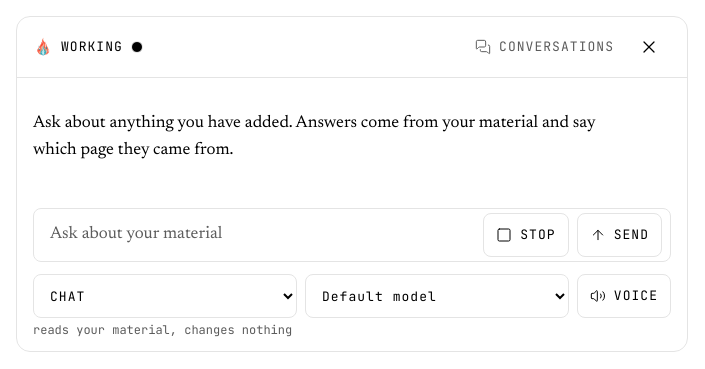
Scenario: the agent bar › closes even while a run is in flight, and the next send brings it back
Expected: the element with test id "agent-state" is shown, [33,37,143,57]
Click the button named "close the agent" at [649, 47], box [627,25,671,69]
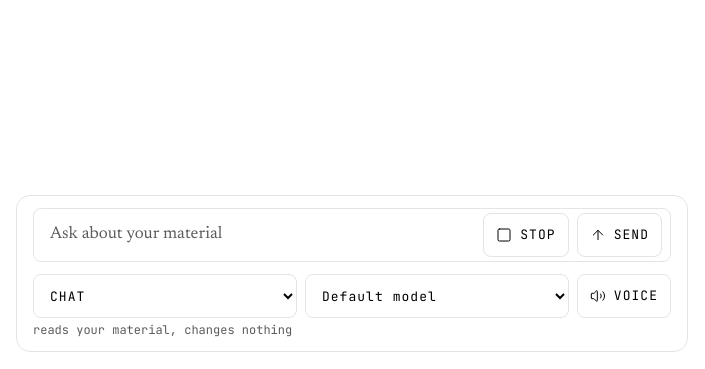
Now the element with test id "agent-state" is gone
Type "carry on then" into the text box labelled "Ask about your material" at [259, 235], box [42,213,475,257]
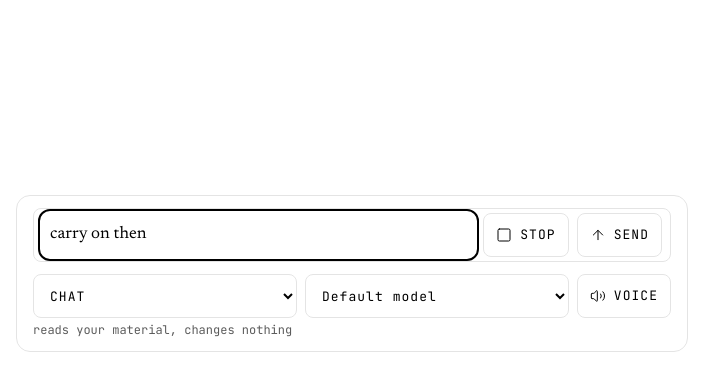
Click the button "Send" at [619, 235], box [577,213,662,257]
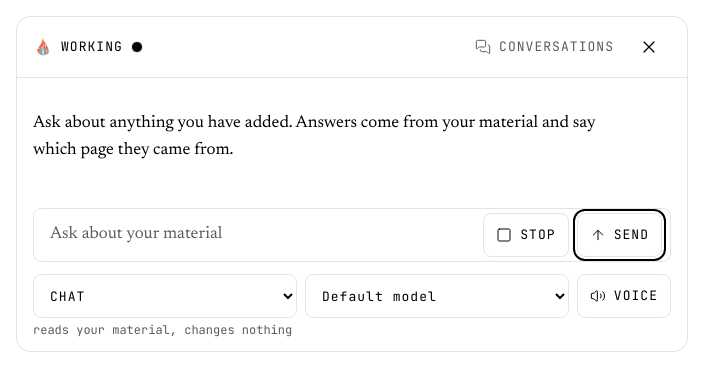
Now the element with test id "agent-state" is shown, box [33,37,143,57]
